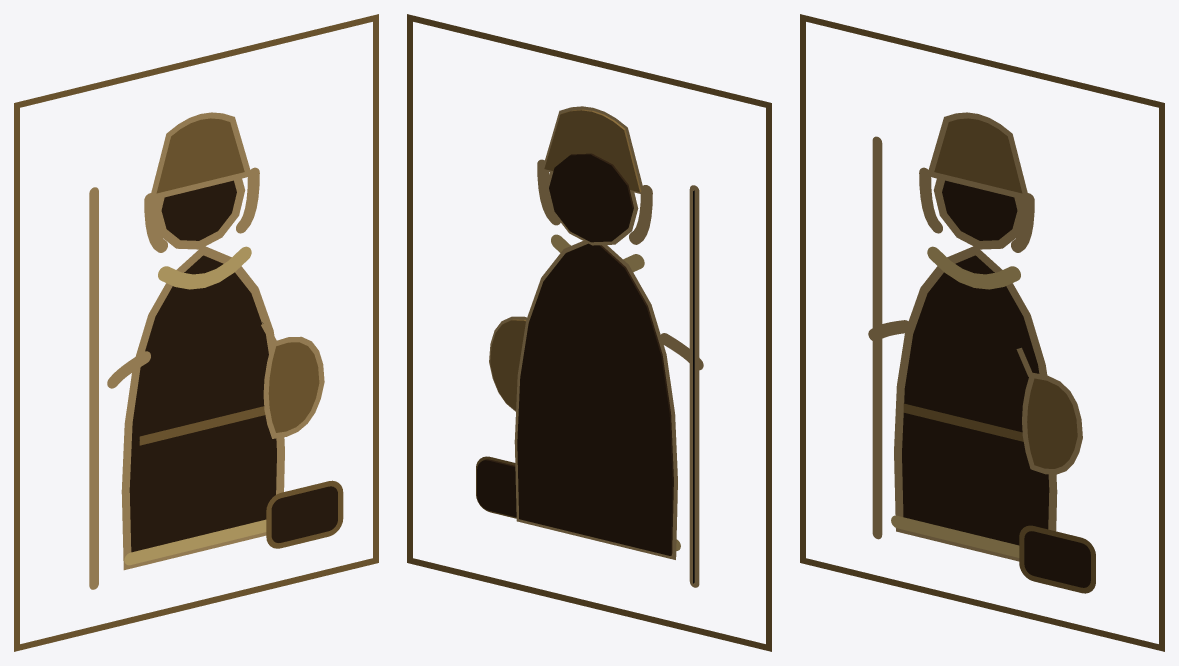
File: npc-strannik-kochevnik.glb
3 renders of one model, left to right at view 1: azimuth 30°, elevation 25°; view 2: azimuth 150°, elevation 25°; view 3: azimuth 330°, elevation 25°, orthographic.
Parts seen in each view (by area): view 1: npc-strannik-kochevnik; view 2: npc-strannik-kochevnik; view 3: npc-strannik-kochevnik.
Part boxes in pixels (bbox=[...]): npc-strannik-kochevnik: bbox=[14, 14, 378, 651]; npc-strannik-kochevnik: bbox=[407, 14, 771, 651]; npc-strannik-kochevnik: bbox=[800, 14, 1164, 651].
Bounding box in the file's own units: 1.14 × 1.64 × 0.0904.
